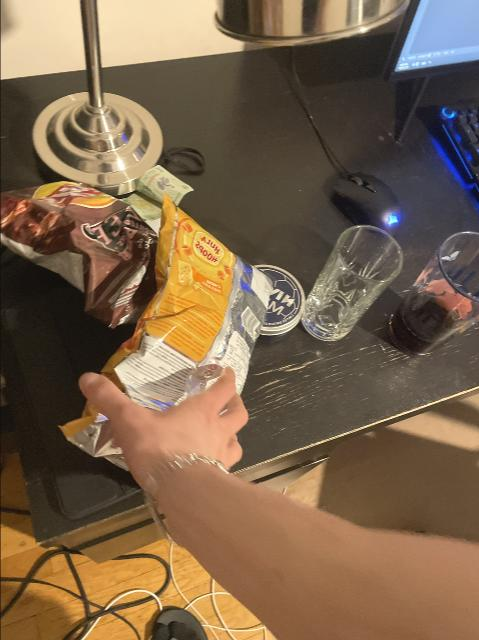Chio Hula Hoops Cheese 70g: (59, 197, 274, 480)
Lays Beef Grilled Ribs 125g: (0, 179, 153, 324)
